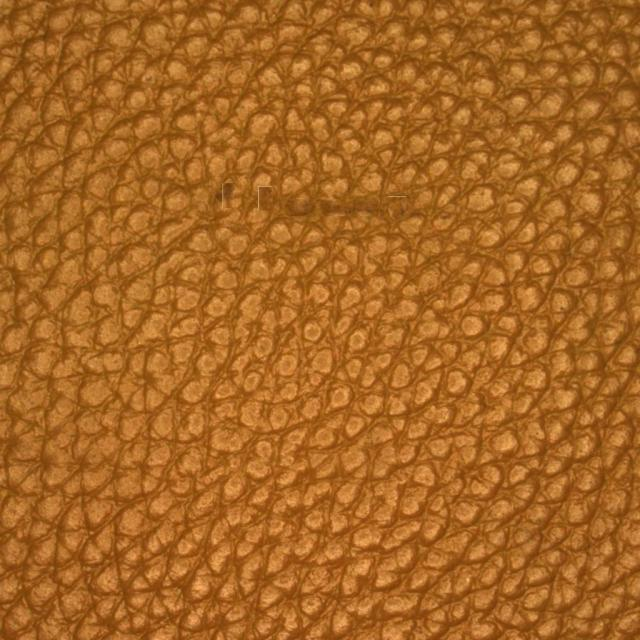Healed Injury: (167, 130, 321, 258)
